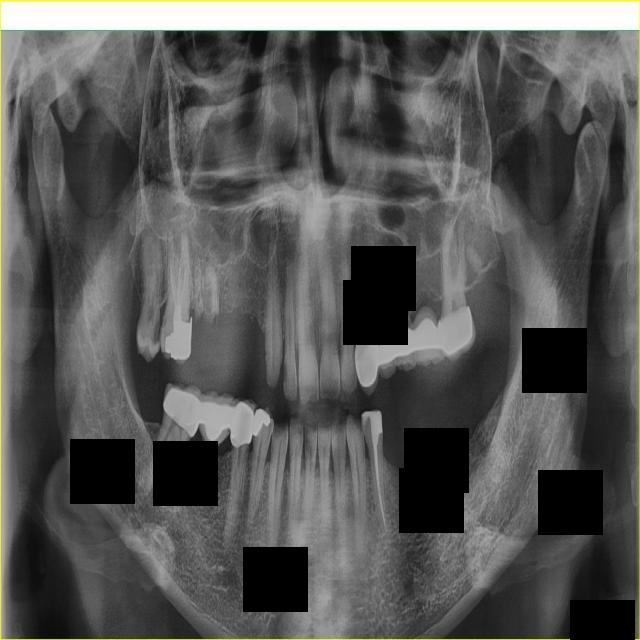72: (203, 264, 221, 324), (191, 258, 205, 319), (462, 241, 487, 273)
74: (372, 443, 386, 528), (178, 263, 188, 319), (168, 251, 177, 308), (176, 244, 184, 305)
NucleOSS Implant: (164, 306, 192, 361), (252, 407, 271, 439)
Sterngold Implant: (152, 310, 161, 345), (160, 313, 170, 330), (283, 362, 289, 383)
Straumann Implant: (358, 406, 393, 448)
Zimmer Implant: (430, 306, 483, 362), (160, 381, 203, 438), (197, 389, 235, 449), (410, 304, 445, 368), (355, 334, 379, 395), (393, 315, 417, 373), (229, 398, 255, 449), (376, 320, 398, 379)
